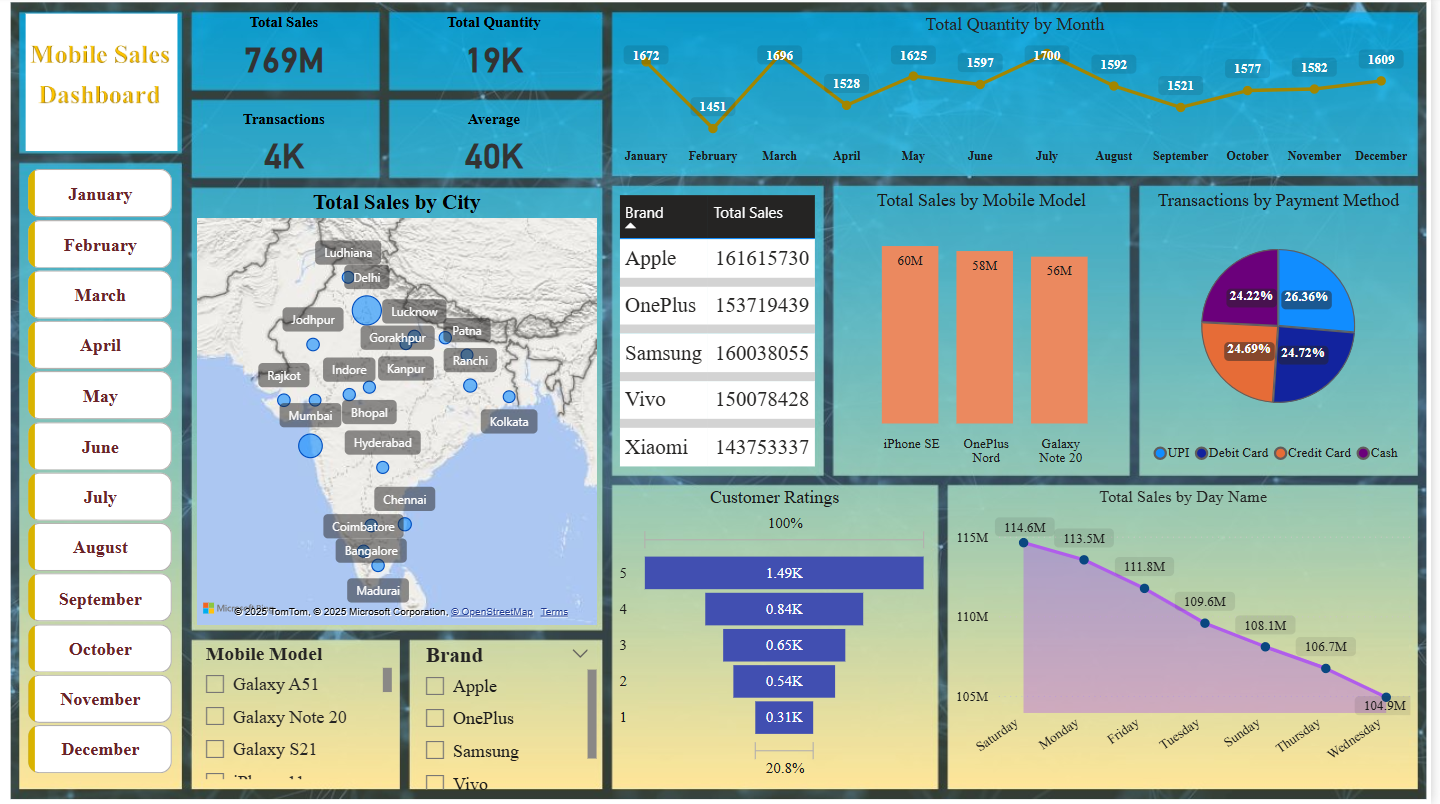

Layout of this report page (visuals, bound fields, positions):
{"tool":"powerbi","page":{"name":"Page 1","canvas":[1280,720],"ordinal":0},"visuals":[{"type":"image","box":[9.7,0,1270.4,720.2],"z":0},{"type":"advancedSlicerVisual","fields":{"Values":["Sales_Data.Date.Variation.Date Hierarchy.Month"]},"box":[25.3,149.6,138.7,552.5],"z":1000},{"type":"cardVisual","fields":{"Data":["Sales_Data.Total Sales","Sales_Data.Total Quantity","Sales_Data.Transactions","Sales_Data.Average"]},"box":[164.1,0,377.6,172.5],"z":2000},{"type":"map","fields":{"Category":["Sales_Data.City"],"Size":["Sales_Data.Total Sales"]},"box":[176.1,172.5,365.6,392.1],"z":3000},{"type":"lineChart","fields":{"Y":["Sales_Data.Total Quantity"],"Category":["Sales_Data.Date.Variation.Date Hierarchy.Month","Sales_Data.Date.Variation.Date Hierarchy.Day"]},"box":[552.5,15.7,714.2,142.4],"z":4000},{"type":"clusteredColumnChart","fields":{"Category":["Sales_Data.Mobile Model"],"Y":["Sales_Data.Total Sales"]},"box":[750.4,172.5,258.2,253.4],"z":5000},{"type":"pieChart","fields":{"Category":["Sales_Data.Payment Method"],"Y":["Sales_Data.Transactions"]},"box":[1020.6,172.5,246.1,253.4],"z":6000},{"type":"funnel","title":"Customer Ratings","fields":{"Category":["Sales_Data.Customer Ratings"],"Y":["CountNonNull(Sales_Data.Customer Ratings)"]},"box":[552.5,437.9,285.9,264.2],"z":7000},{"type":"areaChart","fields":{"Category":["Sales_Data.Day Name"],"Y":["Sales_Data.Total Sales"]},"box":[851.7,437.9,415,264.2],"z":8000},{"type":"tableEx","fields":{"Values":["Sales_Data.Brand","Sales_Data.Total Sales"]},"box":[551.3,172.5,185.8,253.4],"z":9000},{"type":"slicer","fields":{"Values":["Sales_Data.Mobile Model"]},"box":[176.1,570.6,183.4,131.5],"z":10000},{"type":"slicer","fields":{"Values":["Sales_Data.Brand"]},"box":[371.6,570.6,170.1,141.2],"z":11000},{"type":"image","box":[22.9,4.8,144.8,144.8],"z":11001}]}

Visuals, with their boxes in screenshot pixels (x1, y1, x2, y2), scaled from the page's 1280x720 canvas onto the 1440x804 screenshot:
image: {"left": 11, "top": 0, "right": 1439, "bottom": 803}
advancedSlicerVisual - Sales_Data.Date.Variation.Date Hierarchy.Month: {"left": 28, "top": 167, "right": 184, "bottom": 784}
cardVisual - Sales_Data.Total Sales x Sales_Data.Total Quantity: {"left": 185, "top": 0, "right": 609, "bottom": 193}
map - Sales_Data.City x Sales_Data.Total Sales: {"left": 198, "top": 193, "right": 609, "bottom": 630}
lineChart - Sales_Data.Total Quantity x Sales_Data.Date.Variation.Date Hierarchy.Month: {"left": 622, "top": 18, "right": 1425, "bottom": 177}
clusteredColumnChart - Sales_Data.Mobile Model x Sales_Data.Total Sales: {"left": 844, "top": 193, "right": 1135, "bottom": 476}
pieChart - Sales_Data.Payment Method x Sales_Data.Transactions: {"left": 1148, "top": 193, "right": 1425, "bottom": 476}
"Customer Ratings" funnel: {"left": 622, "top": 489, "right": 943, "bottom": 784}
areaChart - Sales_Data.Day Name x Sales_Data.Total Sales: {"left": 958, "top": 489, "right": 1425, "bottom": 784}
tableEx - Sales_Data.Brand x Sales_Data.Total Sales: {"left": 620, "top": 193, "right": 829, "bottom": 476}
slicer - Sales_Data.Mobile Model: {"left": 198, "top": 637, "right": 404, "bottom": 784}
slicer - Sales_Data.Brand: {"left": 418, "top": 637, "right": 609, "bottom": 795}
image: {"left": 26, "top": 5, "right": 189, "bottom": 167}
